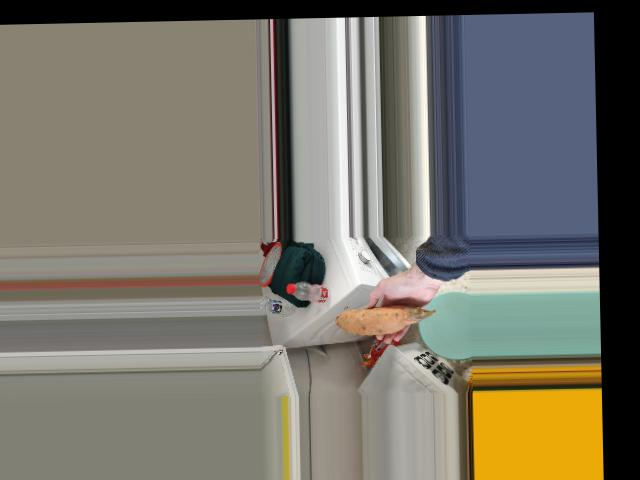sweet_potato: (335, 302, 432, 335)
